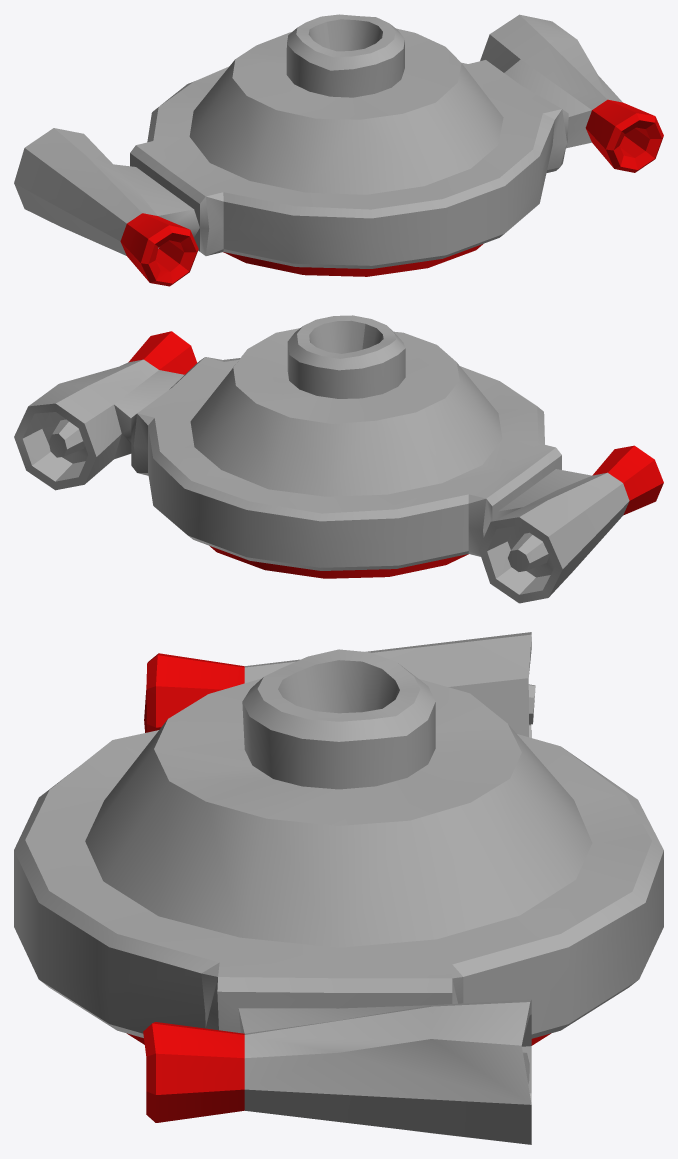
File: Enemy_TurretFlying_Base.fbx
The picture shows the model from 3 angles, top to bottom: view 1: azimuth 30°, elevation 25°; view 2: azimuth 150°, elevation 25°; view 3: azimuth 270°, elevation 25°; orthographic projection. The views are drawn at different scales.
Parts seen in each view (by area): view 1: Enemy_Turret_Flying_Base; view 2: Enemy_Turret_Flying_Base; view 3: Enemy_Turret_Flying_Base.
Part boxes in pixels (left/top/right/bottom): Enemy_Turret_Flying_Base: left=14, top=14, right=663, bottom=286; Enemy_Turret_Flying_Base: left=14, top=315, right=663, bottom=603; Enemy_Turret_Flying_Base: left=14, top=632, right=663, bottom=1144.
Size of the model in its own units: 4.84 by 1.49 by 3.07.
